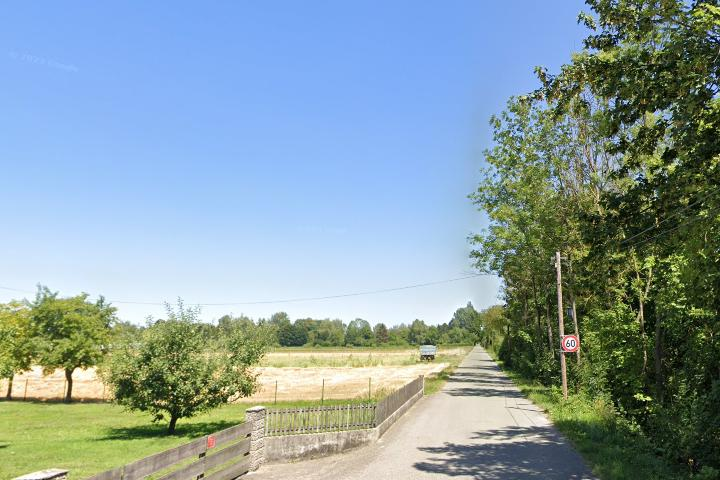traffic_sign: (561, 335, 579, 352)
